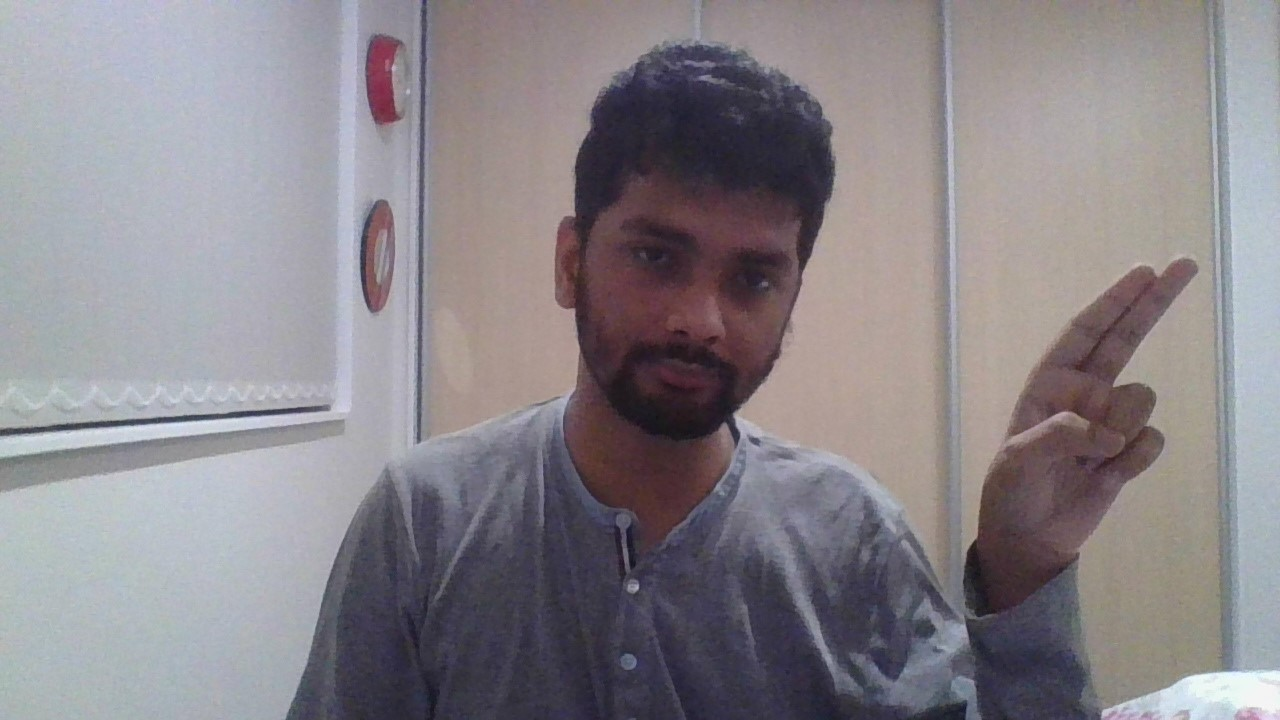peace: (978, 257, 1199, 559)
